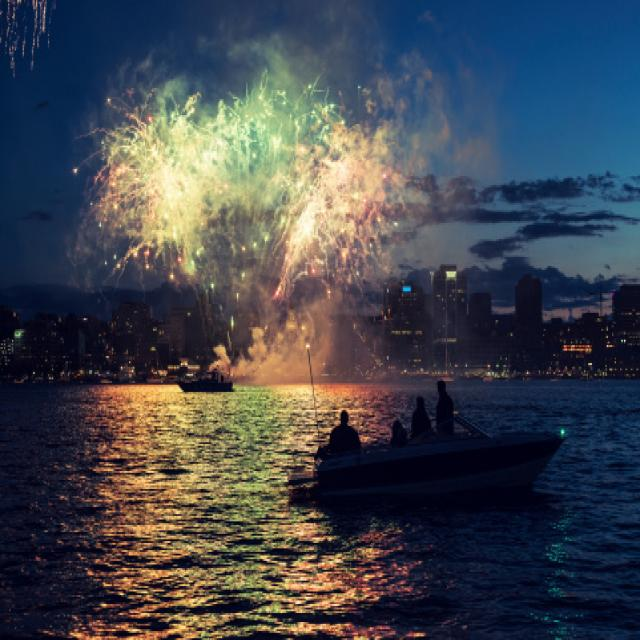Boat: (296, 408, 591, 535), (171, 350, 245, 404)
People: (317, 388, 369, 461), (431, 356, 461, 454), (410, 378, 433, 443), (389, 382, 407, 450)
